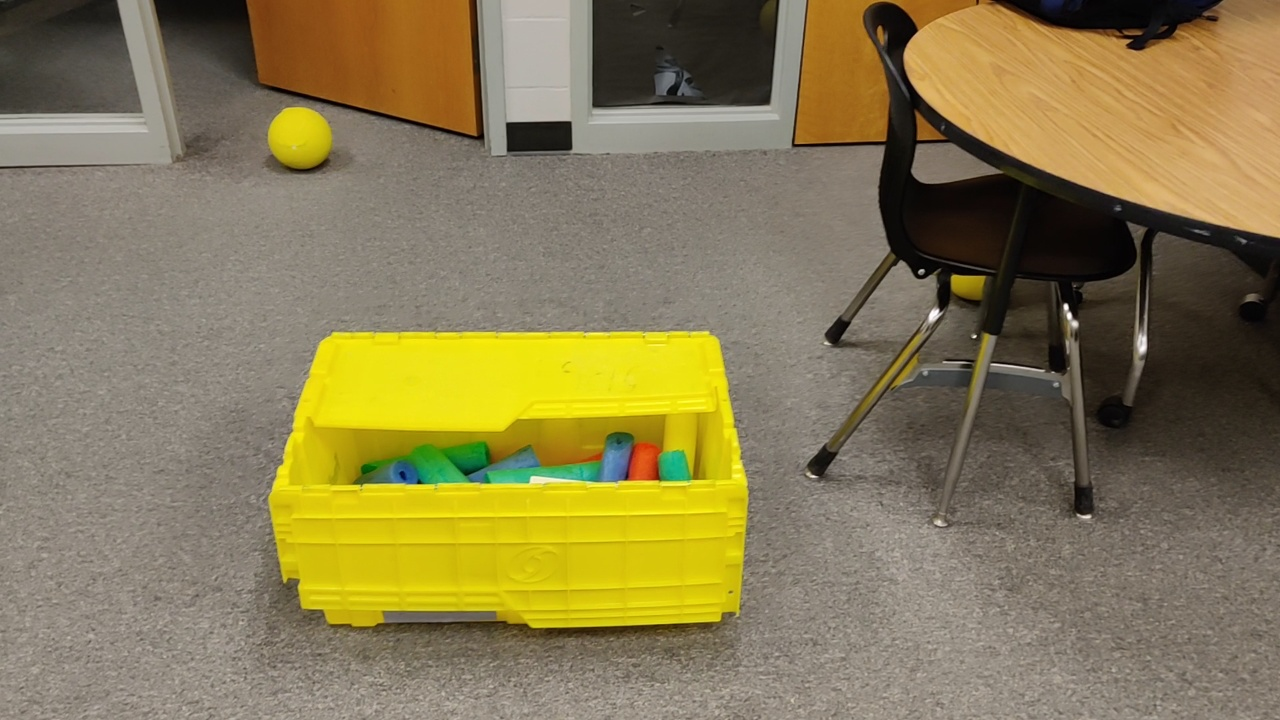Ball: (263, 107, 331, 172)
